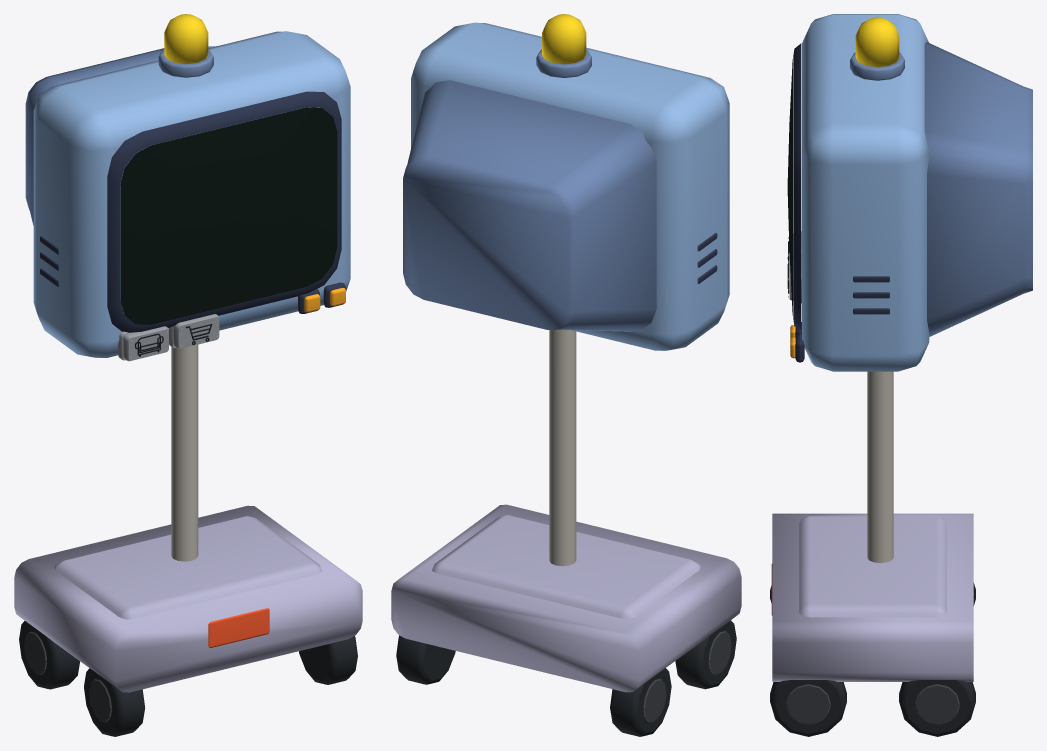
The model's file is dispatcher_01_LOD1.fbx.
3 views of the same model, side by side, from view 1: azimuth 30°, elevation 25°; view 2: azimuth 150°, elevation 25°; view 3: azimuth 270°, elevation 25° (orthographic).
Parts seen in each view (by area): view 1: dispatcher_01_LOD1_Body, dispatcher_01_LOD1_Screen, Button_Deliveries.001, Button_Shop.001; view 2: dispatcher_01_LOD1_Body; view 3: dispatcher_01_LOD1_Body, dispatcher_01_LOD1_Screen.
Part boxes in pixels (x1,y1,x2,y2): dispatcher_01_LOD1_Body: [14, 14, 362, 736]; dispatcher_01_LOD1_Screen: [120, 107, 337, 324]; Button_Deliveries.001: [118, 326, 168, 361]; Button_Shop.001: [169, 314, 219, 348]; dispatcher_01_LOD1_Body: [391, 14, 741, 736]; dispatcher_01_LOD1_Body: [770, 14, 1032, 736]; dispatcher_01_LOD1_Screen: [787, 59, 792, 315].
Size of the model in its own units: 1.09 by 2.46 by 0.888.
